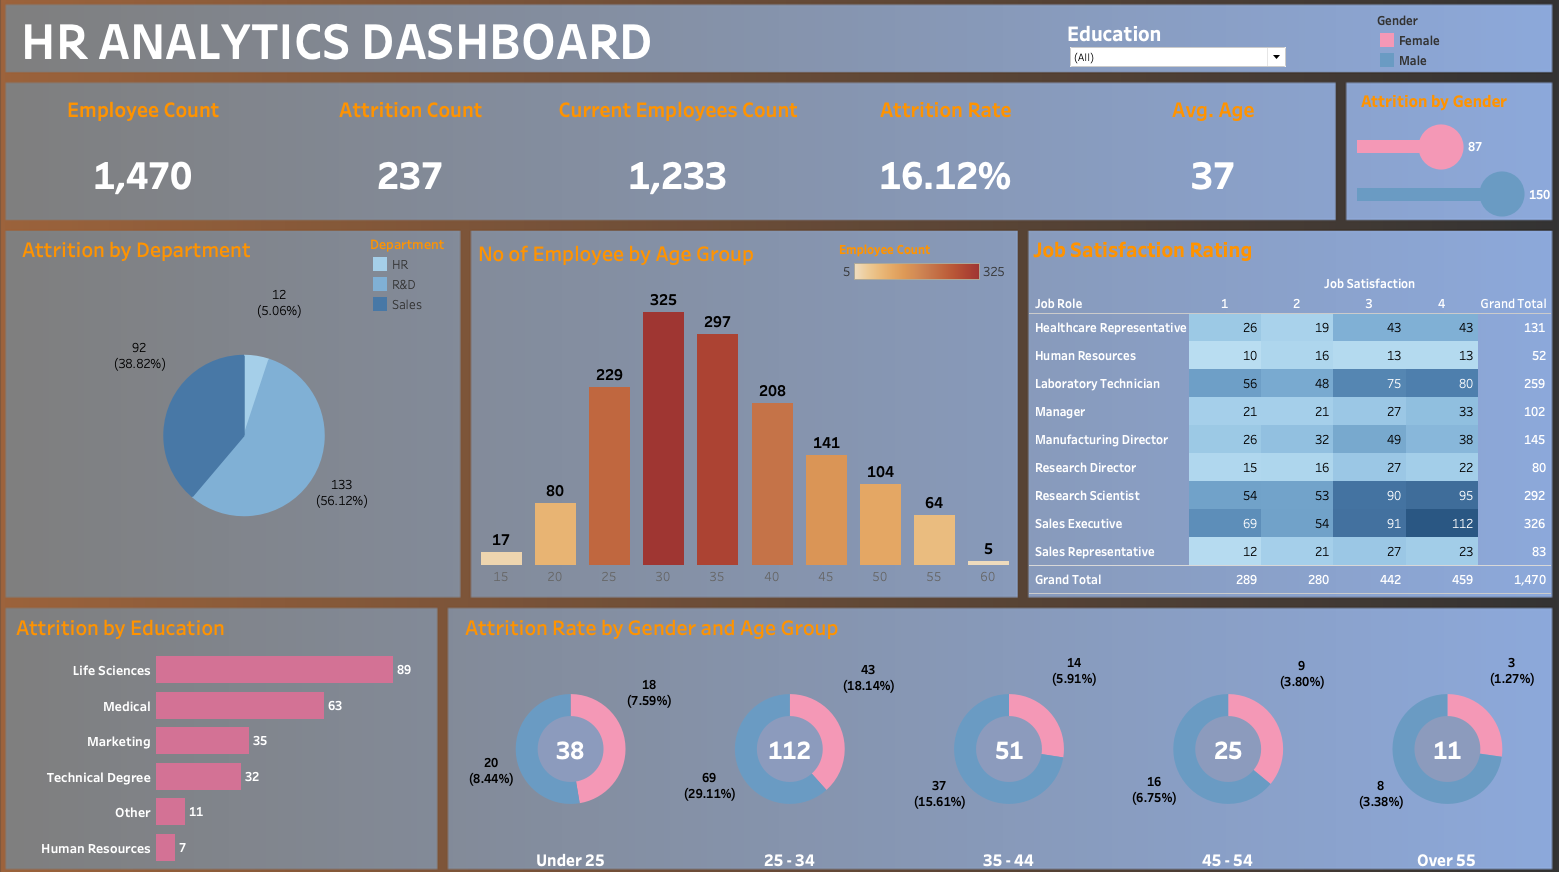

The page's visual inventory and layout, read from the dashboard file:
{"tool":"tableau","page":{"name":"HR ANALYTICS","canvas":[1580,900],"ordinal":0},"visuals":[{"type":"text","box":[29,28,1346,66]},{"type":"legend","title":"Attrition Rate by Gender and Age Group","param":"[federated.1e91d3b1tc9xif0zwl1zs02i2cp5].[none:Gender:nk]","box":[1387,33,140,58]},{"type":"filter","title":"KPI","param":"[federated.1e91d3b1tc9xif0zwl1zs02i2cp5].[none:Education:nk]","box":[1077,40,222,49]},{"type":"worksheet","title":"KPI","mark":"Automatic","box":[20,104,1337,142]},{"type":"worksheet","title":"Attrition by Gender","mark":"Automatic","rows":["Gender"],"cols":["Calculation_0138043447889920","Calculation_0138043447889920"],"box":[1367,107,203,132]},{"type":"worksheet","title":"Attrition by Department","mark":"Pie","box":[28,252,452,366]},{"type":"worksheet","title":"Job Satisfaction Rating","mark":"Square","rows":["Job Role"],"cols":["Job Satisfaction"],"box":[1039,252,522,363]},{"type":"legend","title":"Attrition by Department","param":"[federated.1e91d3b1tc9xif0zwl1zs02i2cp5].[none:Department:nk]","box":[380,256,85,78]},{"type":"worksheet","title":"No of Employee by Age Group","mark":"Automatic","rows":["Employee Count"],"cols":["Age (bin)"],"box":[484,256,542,351]},{"type":"legend","title":"No of Employee by Age Group","param":"[federated.1e91d3b1tc9xif0zwl1zs02i2cp5].[sum:Employee Count:qk]","box":[849,262,171,43]},{"type":"worksheet","title":"Attrition by Education","mark":"Automatic","rows":["Education Field"],"cols":["Calculation_0138043447889920"],"box":[22,630,418,256]},{"type":"worksheet","title":"Attrition Rate by Gender and Age Group","mark":"Pie","rows":["Calculation_0138043524751366","Calculation_0138043524751366"],"cols":["CF_age band"],"box":[471,630,1096,259]}]}

Visuals, with their boxes in screenshot pixels (x1, y1, x2, y2), scaled from the page's 1580x900 canvas onto the 1561x872 screenshot:
text: rect(29, 27, 1358, 91)
"Attrition Rate by Gender and Age Group" legend: rect(1370, 32, 1509, 88)
"KPI" filter: rect(1064, 39, 1283, 86)
"KPI" worksheet: rect(20, 101, 1341, 238)
"Attrition by Gender" worksheet: rect(1351, 104, 1551, 232)
"Attrition by Department" worksheet (Pie marks): rect(28, 244, 474, 599)
"Job Satisfaction Rating" worksheet (Square marks): rect(1027, 244, 1542, 596)
"Attrition by Department" legend: rect(375, 248, 459, 324)
"No of Employee by Age Group" worksheet: rect(478, 248, 1014, 588)
"No of Employee by Age Group" legend: rect(839, 254, 1008, 296)
"Attrition by Education" worksheet: rect(22, 610, 435, 858)
"Attrition Rate by Gender and Age Group" worksheet (Pie marks): rect(465, 610, 1548, 861)
